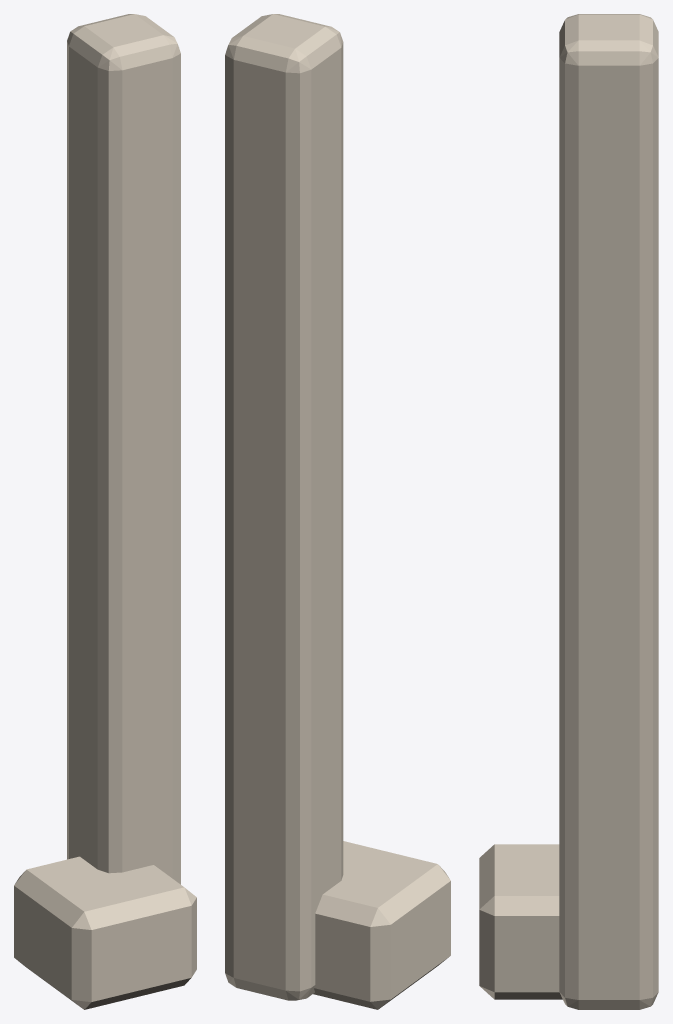
File: SM_VK_InnerCorner_Timber.fbx
The picture shows the model from 3 angles, left to right: view 1: azimuth 30°, elevation 25°; view 2: azimuth 150°, elevation 25°; view 3: azimuth 270°, elevation 25°; orthographic projection. The views are drawn at different scales.
Parts seen in each view (by area): view 1: SM_VK_InnerCorner_Timber.001; view 2: SM_VK_InnerCorner_Timber.001; view 3: SM_VK_InnerCorner_Timber.001.
Part boxes in pixels (x1,y1,x2,y2): SM_VK_InnerCorner_Timber.001: (14, 14, 196, 1009); SM_VK_InnerCorner_Timber.001: (225, 14, 450, 1009); SM_VK_InnerCorner_Timber.001: (479, 14, 658, 1009).
Size of the model in its own units: 0.47 by 2.8 by 0.47.
